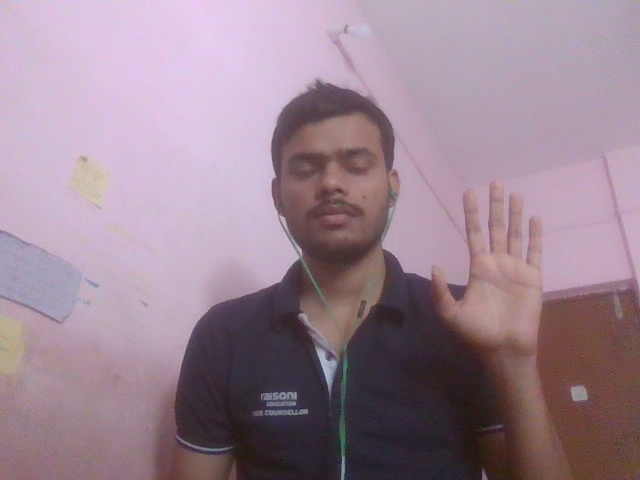Hello: (396, 180, 588, 372)
